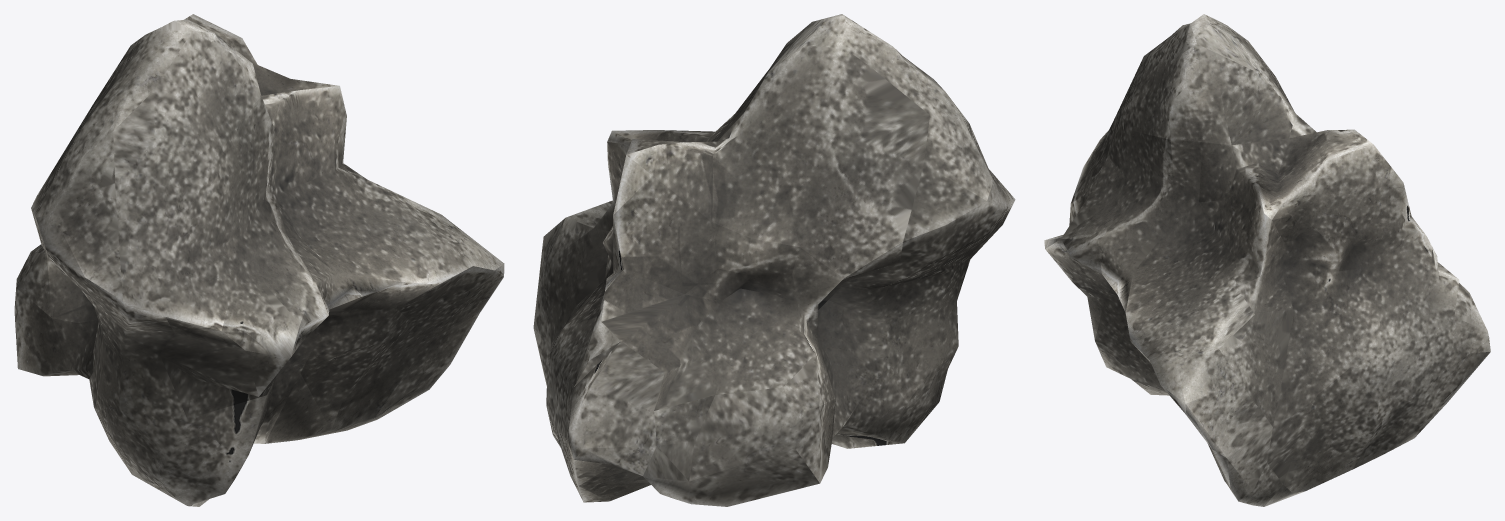
Rendered from rock2_LOD1.fbx.
3 views of the same model, side by side, from view 1: azimuth 30°, elevation 25°; view 2: azimuth 150°, elevation 25°; view 3: azimuth 270°, elevation 25° (orthographic). The views are drawn at different scales.
Parts seen in each view (by area): view 1: rock2; view 2: rock2; view 3: rock2.
Boxes of the visible parts, left/top/right/bottom form: rock2: left=14, top=14, right=504, bottom=506; rock2: left=533, top=14, right=1015, bottom=506; rock2: left=1044, top=14, right=1490, bottom=506.
Size of the model in its own units: 26.37 by 26.27 by 25.76.
